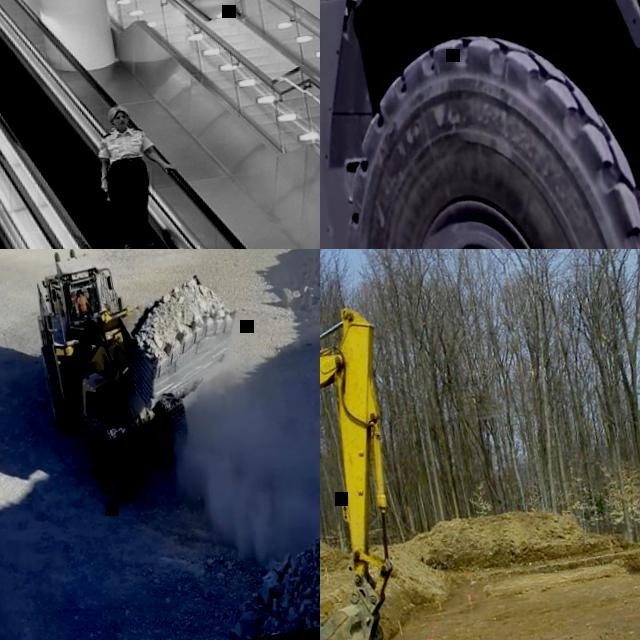NO-Hardhat: (108, 104, 129, 119), (78, 290, 83, 296)
NO-Mask: (114, 116, 130, 128)
NO-Safety Vest: (105, 125, 147, 163), (78, 298, 89, 314)
Person: (86, 97, 188, 249), (73, 289, 93, 315)
machinery: (320, 0, 640, 249), (15, 249, 269, 512), (320, 301, 433, 640)
